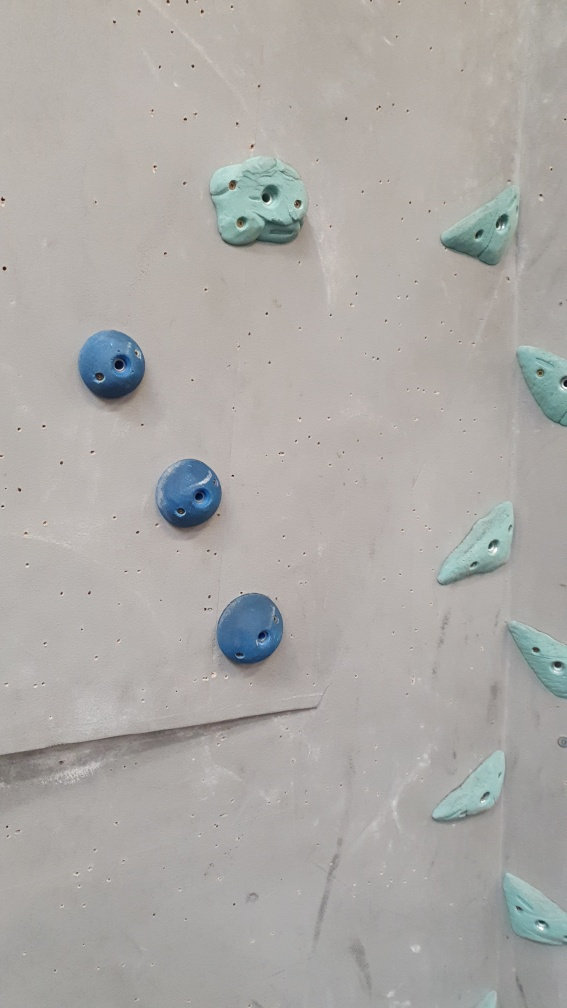Crimp: (436, 490, 517, 591), (438, 179, 524, 268), (428, 748, 512, 827), (490, 865, 567, 948), (501, 614, 567, 709), (510, 339, 567, 429)
Sloper: (209, 585, 289, 673), (71, 326, 156, 407), (149, 449, 226, 537)
